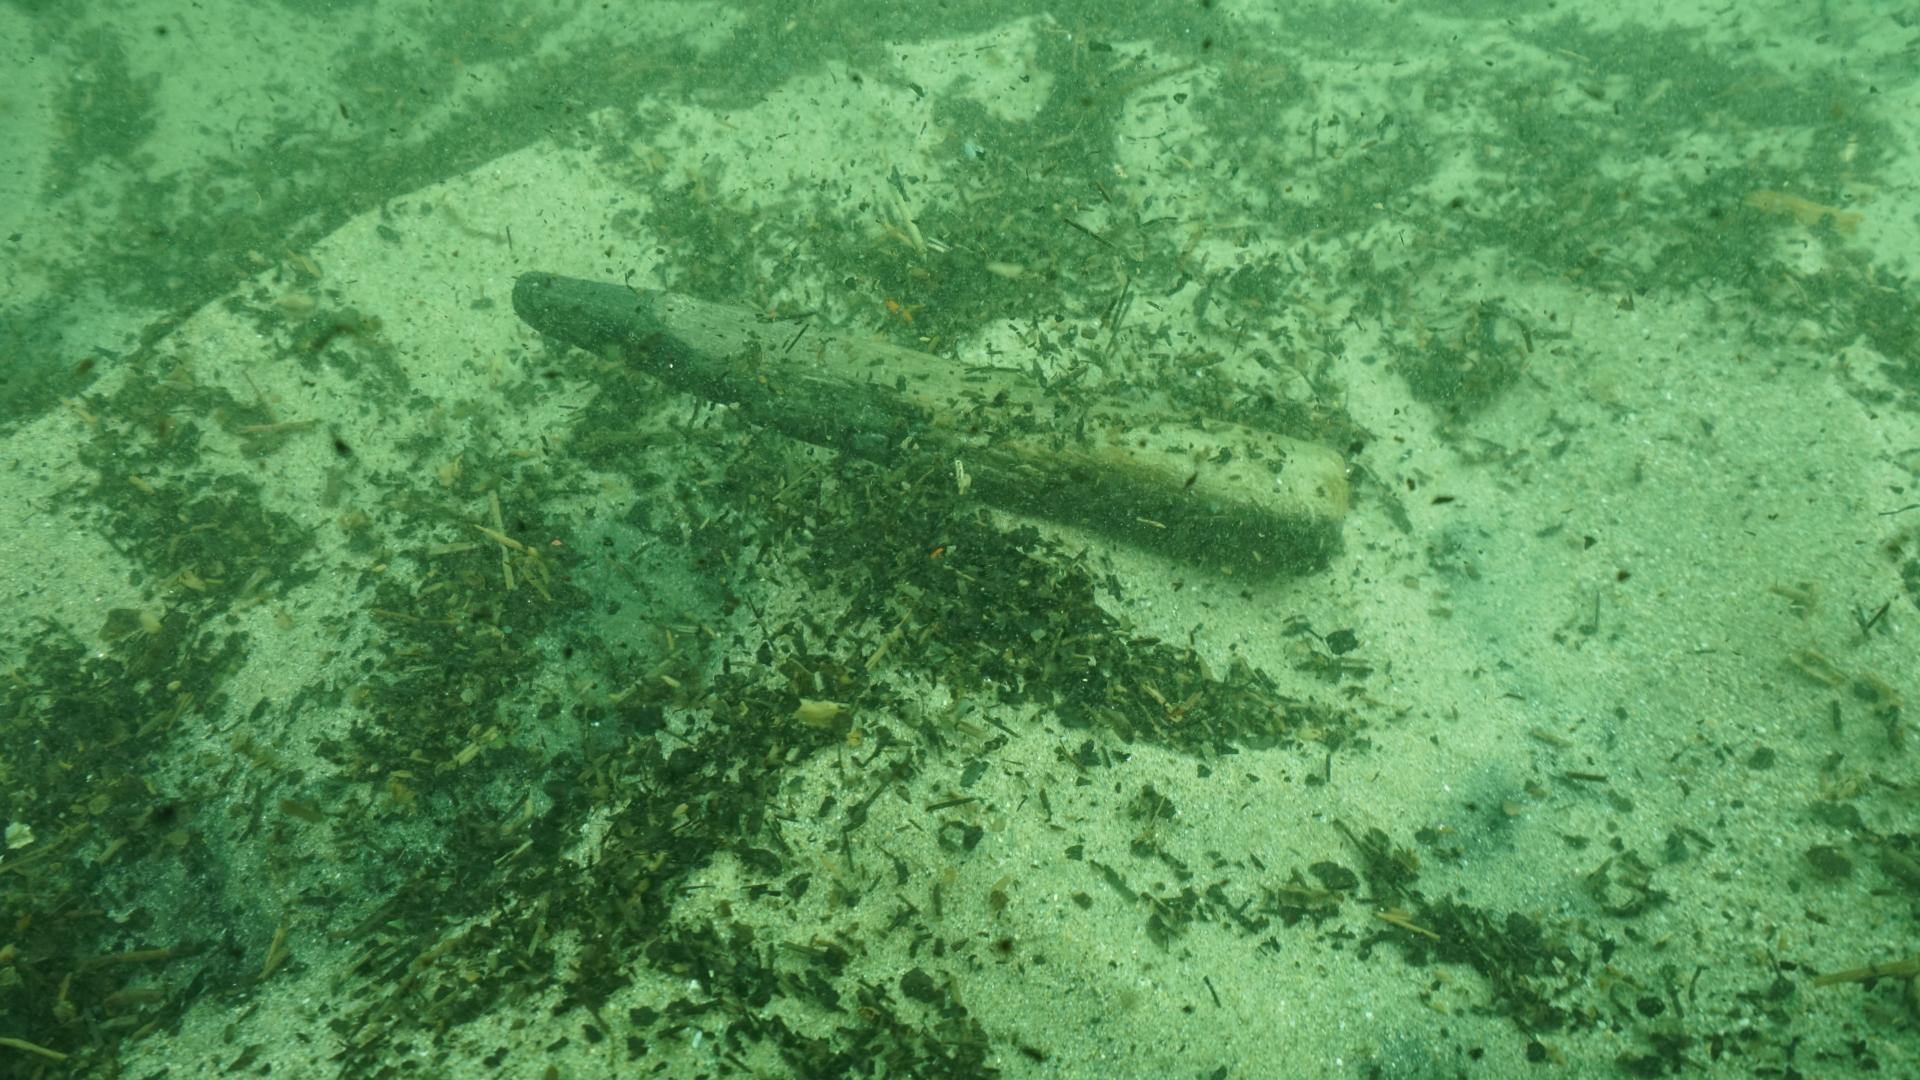wood: (508, 268, 1345, 572)
